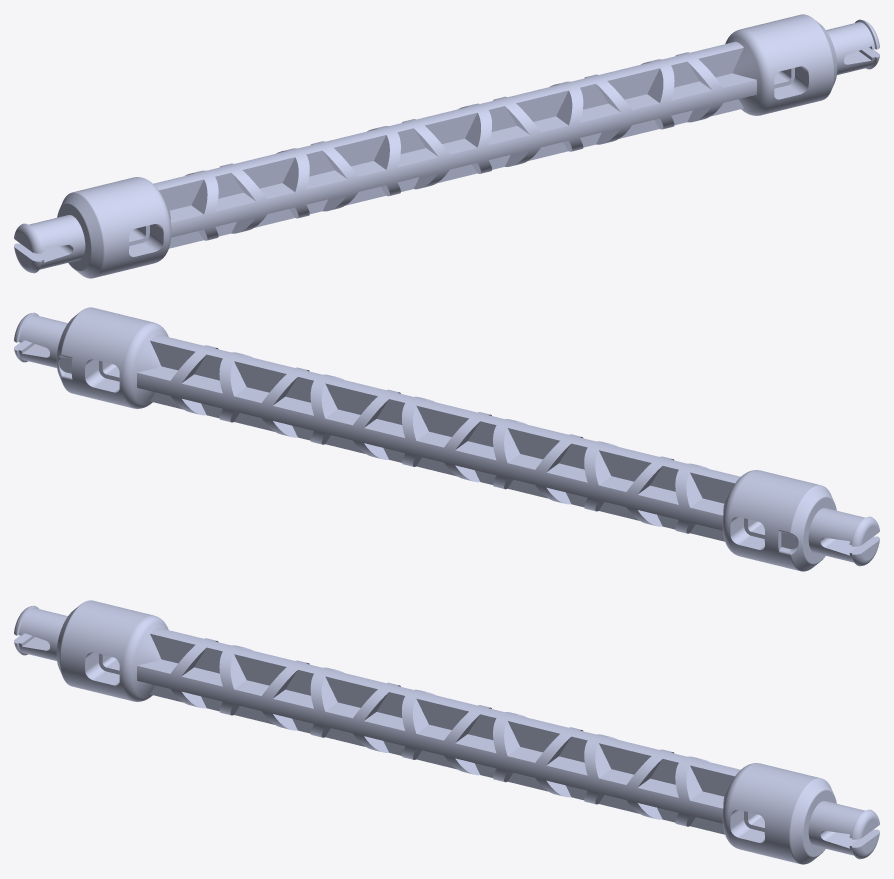
3 views of the same model, one above another, from view 1: azimuth 30°, elevation 25°; view 2: azimuth 150°, elevation 25°; view 3: azimuth 330°, elevation 25° (orthographic).
Parts seen in each view (by area): view 1: NAUO1, NAUO3, NAUO2; view 2: NAUO1, NAUO3, NAUO2; view 3: NAUO1, NAUO2, NAUO3.
Part boxes in pixels (x1=…): NAUO1: x1=84, y1=17, x2=822, y2=274; NAUO3: x1=14, y1=189, x2=149, y2=278; NAUO2: x1=774, y1=14, x2=879, y2=102; NAUO1: x1=71, y1=310, x2=809, y2=567; NAUO3: x1=744, y1=482, x2=879, y2=571; NAUO2: x1=14, y1=307, x2=119, y2=395; NAUO1: x1=71, y1=603, x2=809, y2=860; NAUO2: x1=744, y1=775, x2=879, y2=864; NAUO3: x1=14, y1=600, x2=119, y2=688.
Bounding box in the file's own units: 0.0885 × 0.008 × 0.008.
